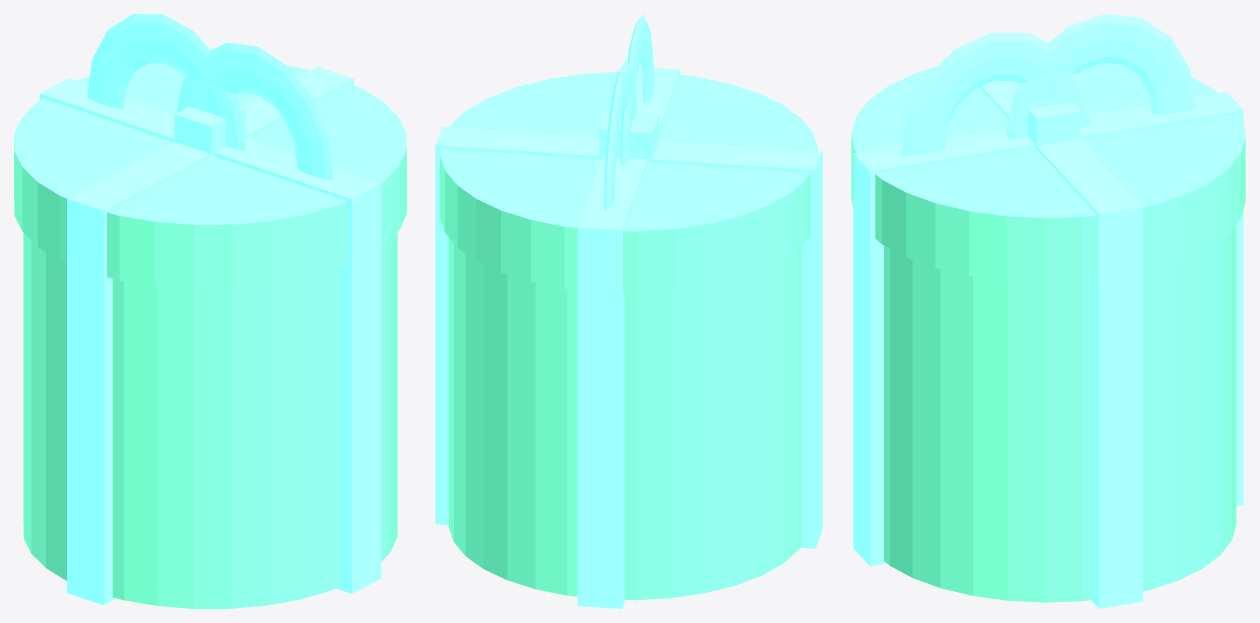
The model's file is Tmpl_Round_Root_227.glb.
The picture shows the model from 3 angles, left to right: view 1: azimuth 30°, elevation 25°; view 2: azimuth 150°, elevation 25°; view 3: azimuth 270°, elevation 25°; orthographic projection. The views are drawn at different scales.
Visible parts, largest first — view 1: Tmpl_Round_Base.225, Tmpl_Round_Lid.225, Tmpl_Round_Ribbon_Y.225, Tmpl_Round_Ribbon_X.225, Tmpl_Round_BowL.225, Tmpl_Round_BowR.225, Tmpl_Round_BowKnot.225; view 2: Tmpl_Round_Base.225, Tmpl_Round_Lid.225, Tmpl_Round_Ribbon_X.225, Tmpl_Round_Ribbon_Y.225, Tmpl_Round_BowR.225, Tmpl_Round_BowL.225, Tmpl_Round_BowKnot.225; view 3: Tmpl_Round_Base.225, Tmpl_Round_Lid.225, Tmpl_Round_Ribbon_Y.225, Tmpl_Round_Ribbon_X.225, Tmpl_Round_BowL.225, Tmpl_Round_BowR.225, Tmpl_Round_BowKnot.225.
Boxes of the visible parts, x1,y1,x2,y2 form: Tmpl_Round_Base.225: [23, 232, 397, 608]; Tmpl_Round_Lid.225: [14, 63, 406, 289]; Tmpl_Round_Ribbon_Y.225: [67, 66, 353, 605]; Tmpl_Round_Ribbon_X.225: [39, 78, 381, 593]; Tmpl_Round_BowL.225: [87, 14, 245, 150]; Tmpl_Round_BowR.225: [176, 42, 333, 180]; Tmpl_Round_BowKnot.225: [174, 106, 246, 156]; Tmpl_Round_Base.225: [449, 238, 801, 600]; Tmpl_Round_Lid.225: [440, 71, 817, 293]; Tmpl_Round_Ribbon_X.225: [577, 67, 680, 608]; Tmpl_Round_Ribbon_Y.225: [435, 126, 822, 548]; Tmpl_Round_BowR.225: [620, 14, 653, 165]; Tmpl_Round_BowL.225: [604, 59, 637, 211]; Tmpl_Round_BowKnot.225: [599, 111, 658, 162]; Tmpl_Round_Base.225: [884, 224, 1236, 602]; Tmpl_Round_Lid.225: [851, 63, 1245, 282]; Tmpl_Round_Ribbon_Y.225: [979, 81, 1142, 608]; Tmpl_Round_Ribbon_X.225: [853, 91, 1243, 566]; Tmpl_Round_BowL.225: [1006, 14, 1195, 138]; Tmpl_Round_BowR.225: [901, 32, 1090, 155]; Tmpl_Round_BowKnot.225: [1028, 102, 1080, 149].
Bounding box in the file's own units: 0.8054 × 1.13 × 0.8054.
